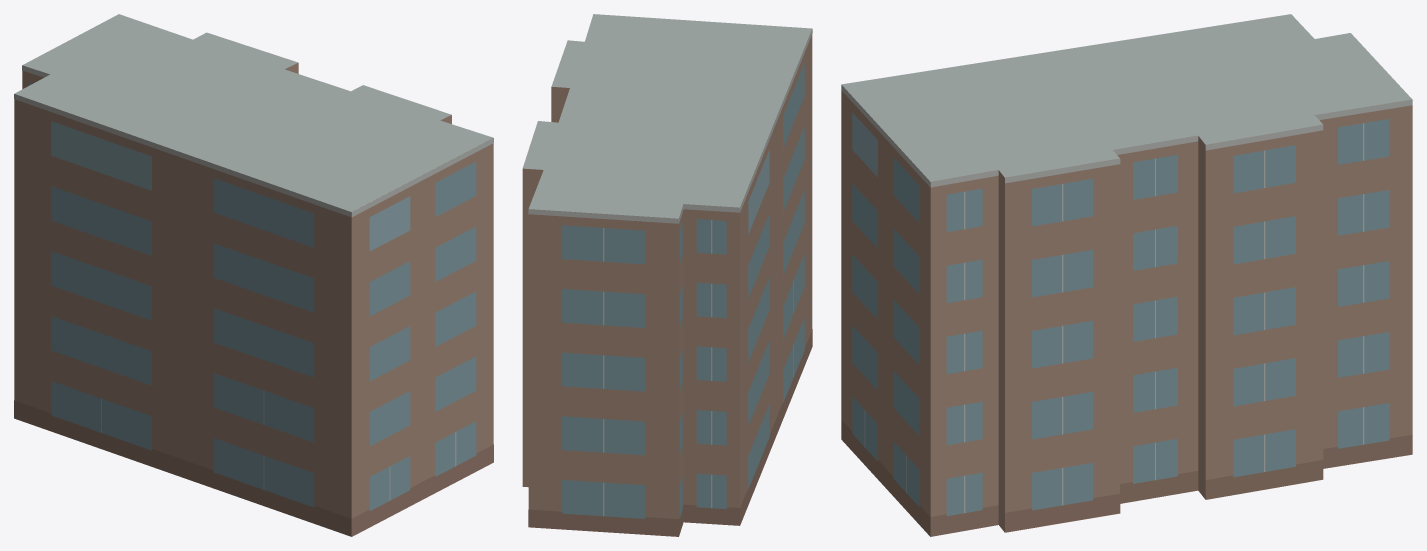
Rendered from survey-upis-32856616.glb.
3 views of the same model, side by side, from view 1: azimuth 30°, elevation 25°; view 2: azimuth 150°, elevation 25°; view 3: azimuth 270°, elevation 25° (orthographic). The views are drawn at different scales.
Visible parts, largest first — view 1: survey-upis-32856616.tmp; view 2: survey-upis-32856616.tmp; view 3: survey-upis-32856616.tmp.
Part boxes in pixels (box(x1,y1,x2,y2)): survey-upis-32856616.tmp: box(14, 14, 493, 536); survey-upis-32856616.tmp: box(522, 14, 812, 536); survey-upis-32856616.tmp: box(841, 14, 1412, 536).
Size of the model in its own units: 15.32 by 15.1 by 22.03.
